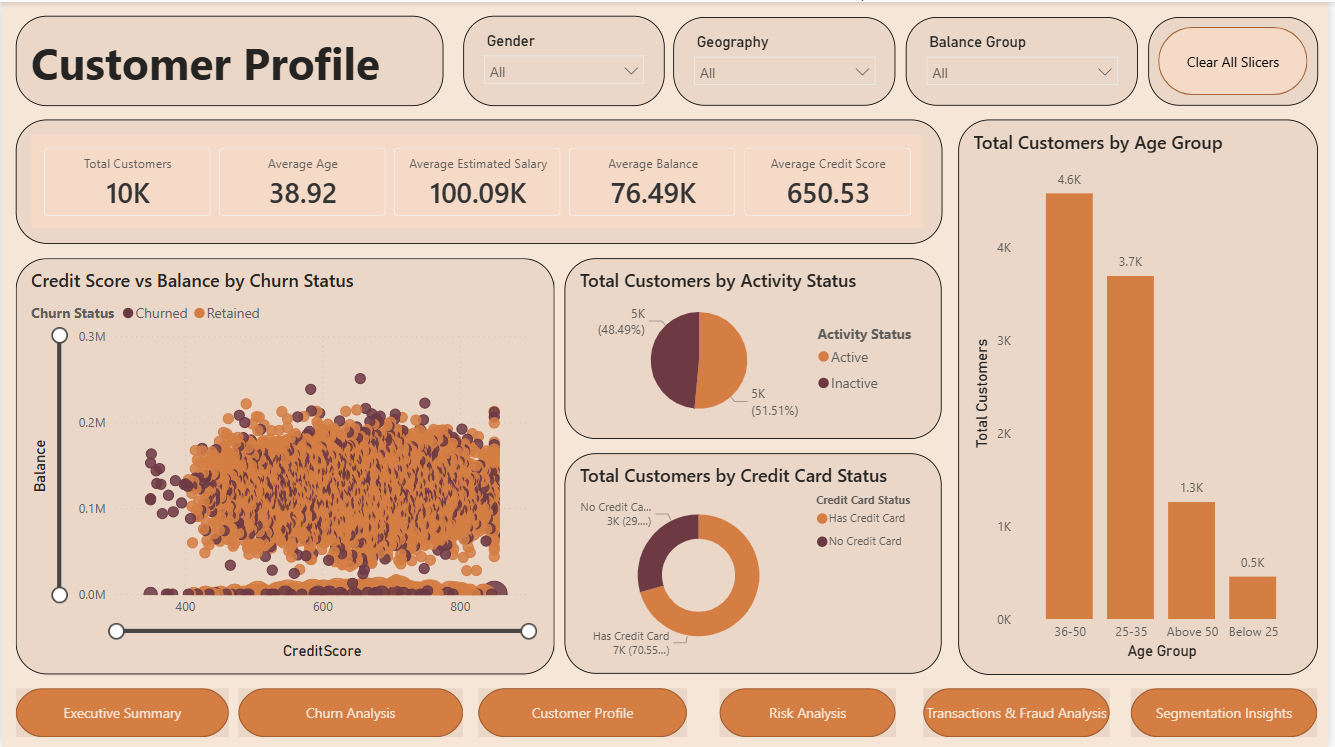

The dashboard page shown, as its layout file describes it:
{"tool":"powerbi","page":{"name":"Customer Profile","canvas":[1280,720],"ordinal":2},"visuals":[{"type":"cardVisual","fields":{"Data":["customers.Total Customers","customers.Average Age","customers.Average Estimated Salary","customers.Average Balance","customers.Average Credit Score"]},"box":[12.9,112.9,894.3,120],"z":0},{"type":"clusteredColumnChart","fields":{"Category":["customers.Age Group"],"Y":["customers.Total Customers"]},"box":[922.9,112.9,347.1,535.7],"z":1000},{"type":"pieChart","fields":{"Category":["customers.Activity Status"],"Y":["customers.Total Customers"]},"box":[542.9,247.1,364.3,174.3],"z":2000},{"type":"donutChart","fields":{"Category":["customers.Credit Card Status"],"Y":["customers.Total Customers"]},"box":[542.9,435.7,364.3,212.9],"z":3000},{"type":"scatterChart","title":"Credit Score vs Balance by Churn Status","fields":{"X":["customers.CreditScore"],"Y":["customers.Balance"],"Series":["customers.Churn Status"],"Size":["CountNonNull(customers.EstimatedSalary)"]},"box":[12.9,247.1,520,401.4],"z":4000},{"type":"slicer","fields":{"Values":["customers.Geography"]},"box":[647.9,14.5,214.7,85.7],"z":5000},{"type":"slicer","fields":{"Values":["customers.Gender"]},"box":[445.2,13.3,194.2,86.9],"z":6000},{"type":"slicer","fields":{"Values":["customers.Balance Group"]},"box":[872.3,14.5,224.4,85.7],"z":7000},{"type":"textbox","box":[12.9,12.9,412.9,87.1],"z":8000},{"type":"shape","box":[12.9,662.9,205.7,47.1],"z":9000},{"type":"shape","box":[228.6,662.9,217.1,47.1],"z":10000},{"type":"shape","box":[460,662.9,201.4,47.1],"z":11000},{"type":"shape","box":[692.9,662.9,170,47.1],"z":12000},{"type":"shape","box":[888.6,662.9,180,47.1],"z":13000},{"type":"shape","box":[1090,662.9,180,47.1],"z":14000},{"type":"shape","box":[1106.3,14.5,164.1,85.7],"z":14001}]}

Visuals, with their boxes in screenshot pixels (x1, y1, x2, y2), scaled from the page's 1280x720 canvas onto the 1335x747 screenshot:
cardVisual - customers.Total Customers x customers.Average Age: <bbox>13, 117, 946, 242</bbox>
clusteredColumnChart - customers.Age Group x customers.Total Customers: <bbox>963, 117, 1325, 673</bbox>
pieChart - customers.Activity Status x customers.Total Customers: <bbox>566, 256, 946, 437</bbox>
donutChart - customers.Credit Card Status x customers.Total Customers: <bbox>566, 452, 946, 673</bbox>
"Credit Score vs Balance by Churn Status" scatterChart: <bbox>13, 256, 556, 673</bbox>
slicer - customers.Geography: <bbox>676, 15, 900, 104</bbox>
slicer - customers.Gender: <bbox>464, 14, 667, 104</bbox>
slicer - customers.Balance Group: <bbox>910, 15, 1144, 104</bbox>
textbox: <bbox>13, 13, 444, 104</bbox>
shape: <bbox>13, 688, 228, 737</bbox>
shape: <bbox>238, 688, 465, 737</bbox>
shape: <bbox>480, 688, 690, 737</bbox>
shape: <bbox>723, 688, 900, 737</bbox>
shape: <bbox>927, 688, 1115, 737</bbox>
shape: <bbox>1137, 688, 1325, 737</bbox>
shape: <bbox>1154, 15, 1325, 104</bbox>
